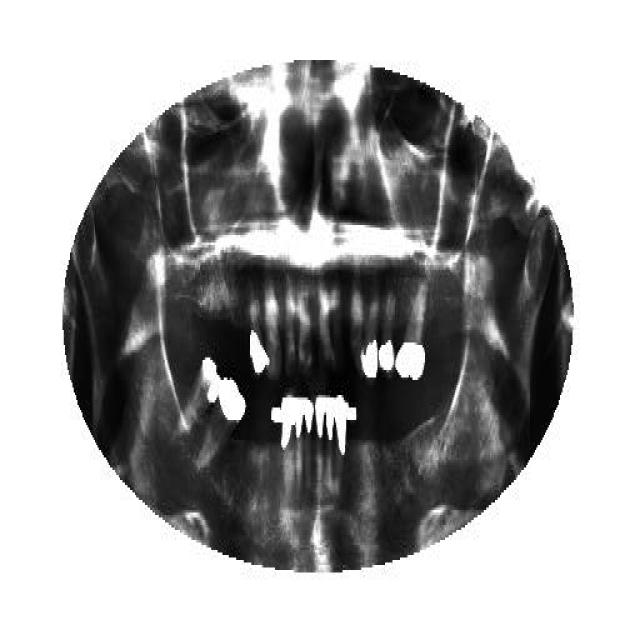Fillings: (198, 375, 246, 475), (395, 280, 430, 380), (178, 355, 220, 435), (282, 390, 298, 510), (361, 285, 381, 380), (249, 283, 269, 375), (334, 390, 348, 490), (379, 290, 396, 372), (314, 392, 325, 488), (304, 395, 314, 490), (295, 390, 303, 500), (325, 392, 334, 488)
